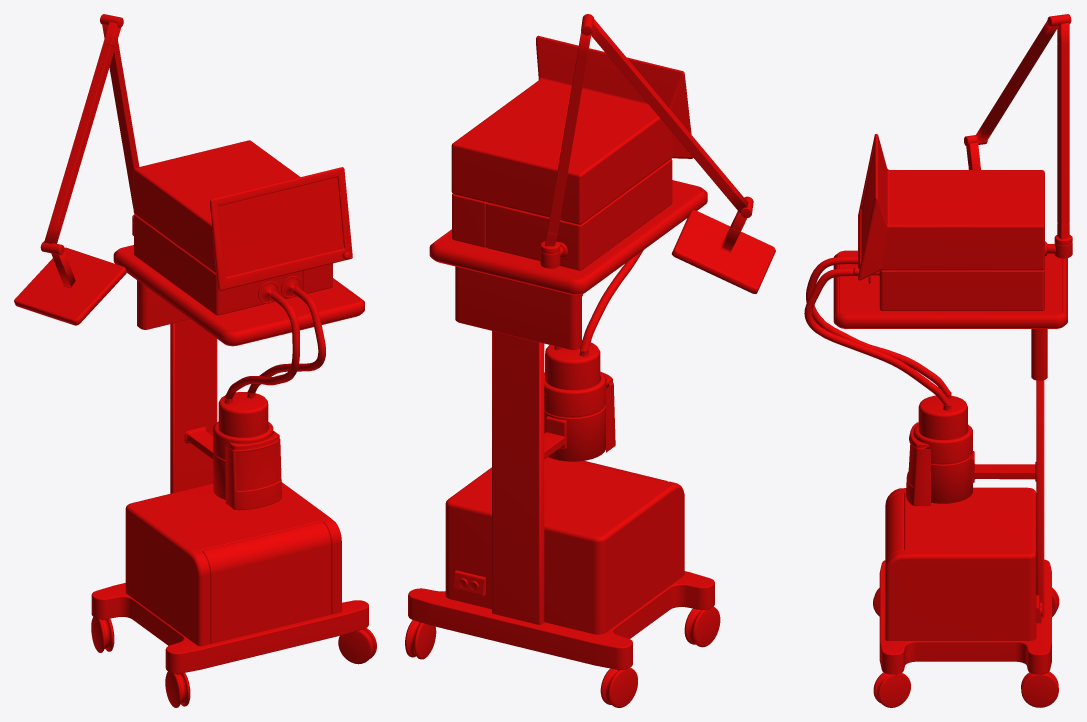
Rendered from Equipment_17.fbx.
3 renders of one model, left to right at view 1: azimuth 30°, elevation 25°; view 2: azimuth 150°, elevation 25°; view 3: azimuth 270°, elevation 25°, orthographic. The views are drawn at different scales.
Visible parts, largest first — view 1: polySurface24; view 2: polySurface24; view 3: polySurface24.
Boxes of the visible parts, bbox=[...] form: polySurface24: bbox=[14, 14, 376, 707]; polySurface24: bbox=[405, 14, 775, 707]; polySurface24: bbox=[804, 14, 1072, 707].
Size of the model in its own units: 127 by 253 by 100.
